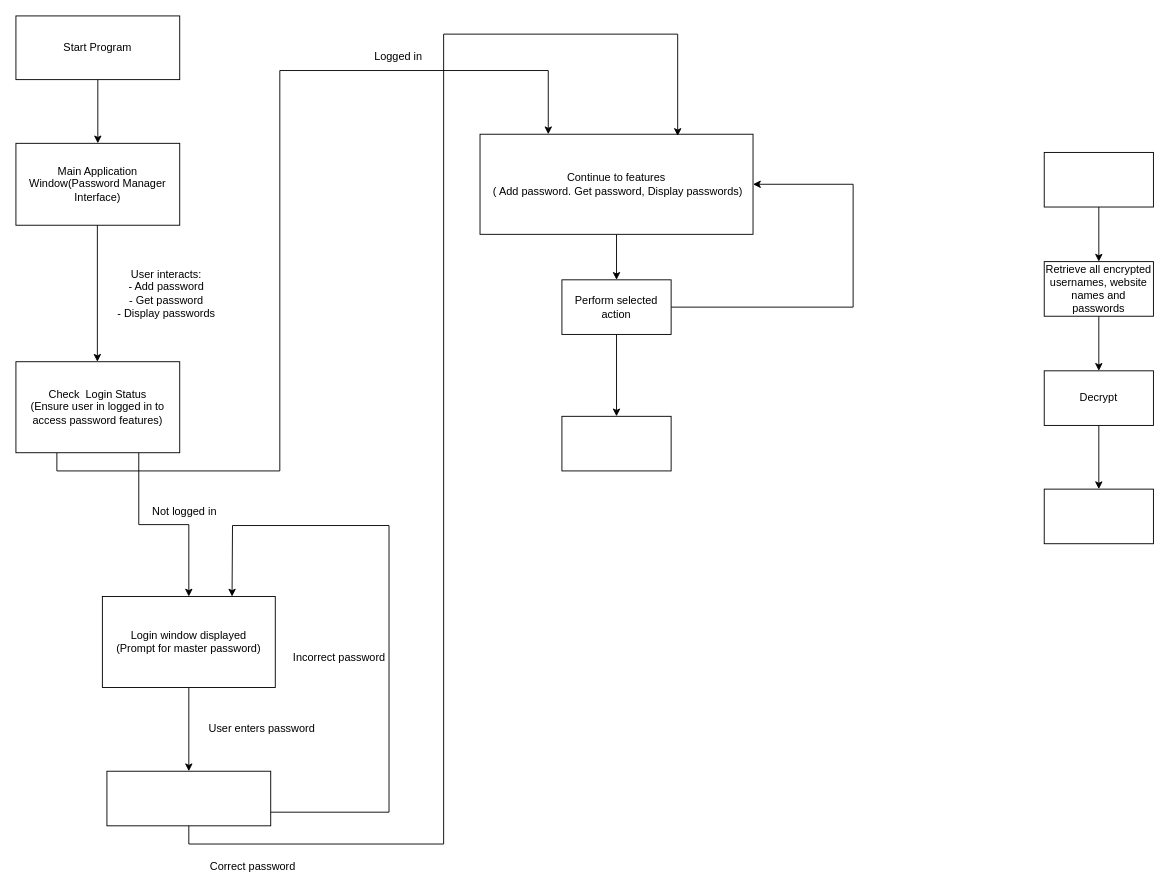
Image size: 1169x896. Some labels were removed from this diagram. Each missing label, with the centre of its shape:
"Display all data" belongs at (1098,516).
"Display all passwords" belongs at (1098,179).
"End program" belongs at (616,443).
"Verify master password" belongs at (188,798).
